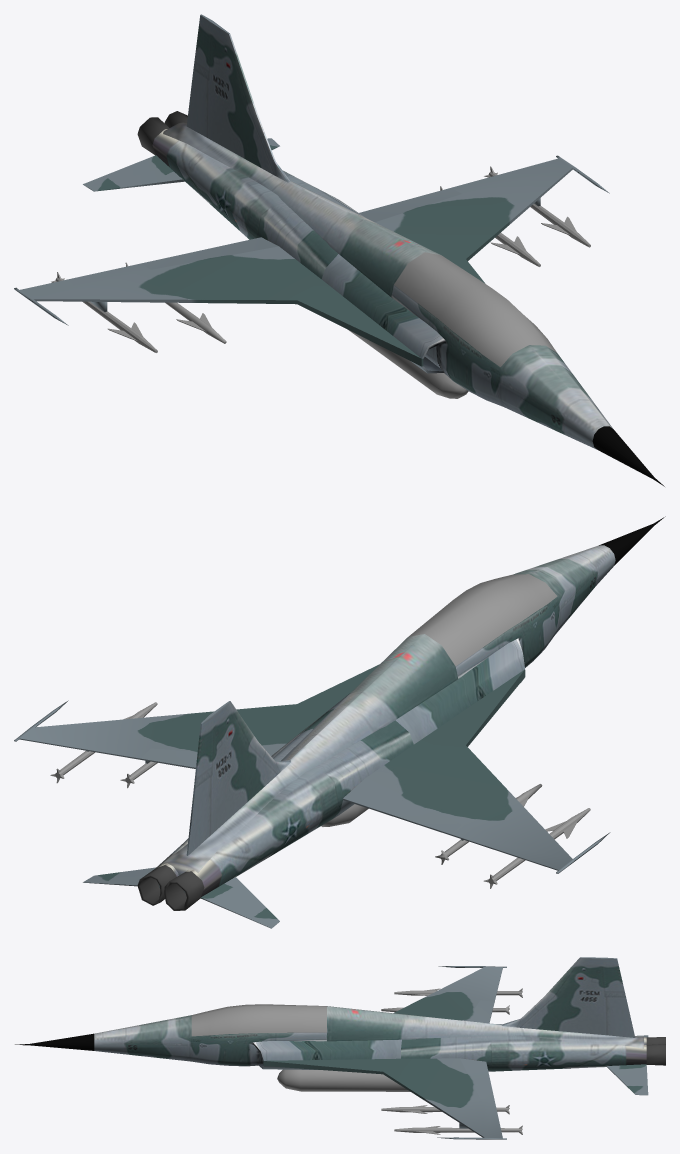
The model's file is CacaF5.FBX.
3 views of the same model, one above another, from view 1: azimuth 30°, elevation 25°; view 2: azimuth 150°, elevation 25°; view 3: azimuth 270°, elevation 25° (orthographic). The views are drawn at different scales.
Parts seen in each view (by area): view 1: CacaF5, bomba_F5; view 2: CacaF5, bomba_F5; view 3: CacaF5, bomba_F5.
Part boxes in pixels (left/top/right/bottom): CacaF5: left=14, top=14, right=664, bottom=486; bomba_F5: left=51, top=166, right=590, bottom=398; CacaF5: left=14, top=516, right=665, bottom=928; bomba_F5: left=50, top=702, right=590, bottom=888; CacaF5: left=15, top=957, right=665, bottom=1139; bomba_F5: left=277, top=988, right=522, bottom=1134.
Bounding box in the file's own units: 7.05 × 2.54 × 11.28.
